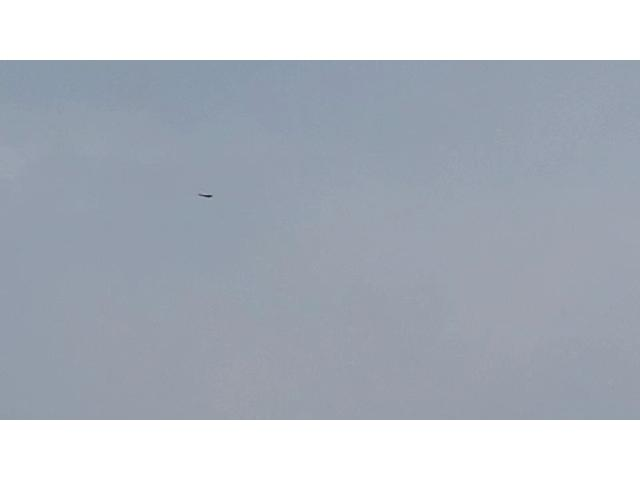Anti-Drone: (196, 189, 216, 201)
